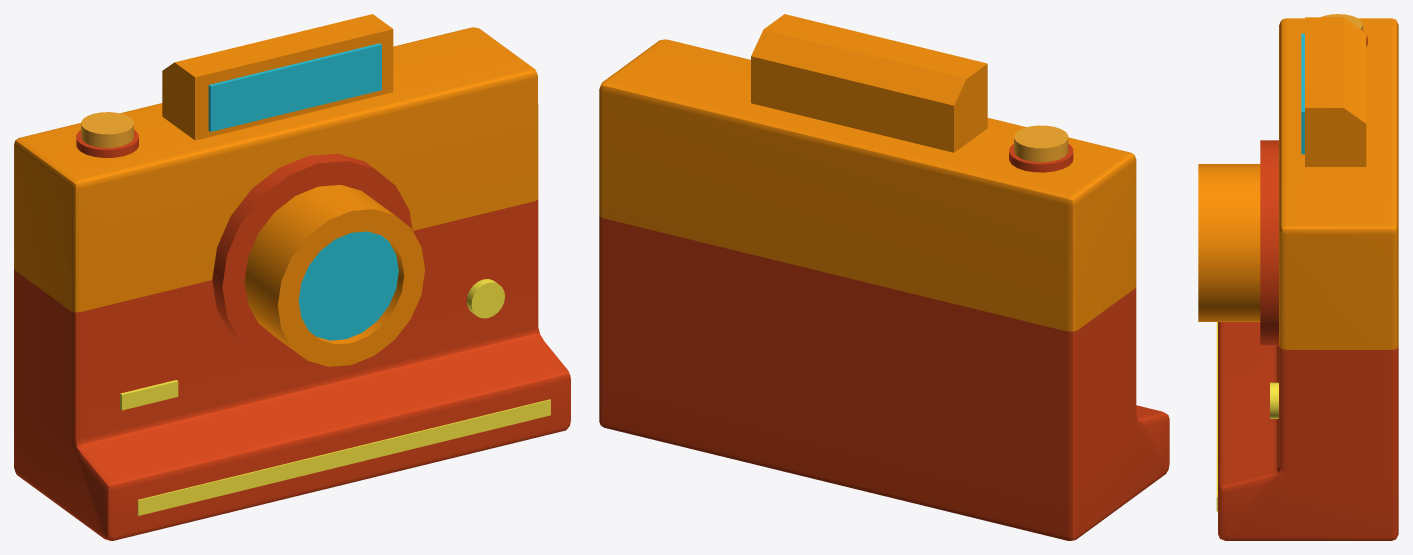
Rendered from camera.fbx.
The picture shows the model from 3 angles, left to right: view 1: azimuth 30°, elevation 25°; view 2: azimuth 150°, elevation 25°; view 3: azimuth 270°, elevation 25°; orthographic projection. The views are drawn at different scales.
Parts seen in each view (by area): view 1: camera; view 2: camera; view 3: camera.
Part boxes in pixels (bbox=[...]): camera: bbox=[14, 14, 570, 540]; camera: bbox=[599, 14, 1169, 540]; camera: bbox=[1198, 14, 1398, 540].
Bounding box in the file's own units: 65.52 × 53.85 × 26.09.
